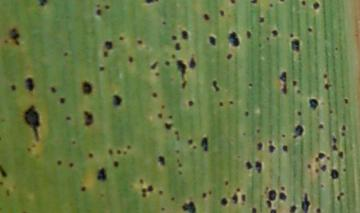tarspot: (24, 105, 40, 142), (177, 59, 187, 80), (10, 28, 21, 46), (279, 70, 287, 94), (228, 32, 240, 47), (182, 201, 197, 213), (302, 193, 311, 213), (82, 110, 93, 126), (82, 79, 92, 95), (293, 125, 304, 139), (290, 39, 301, 52), (97, 168, 108, 181), (25, 78, 35, 92), (309, 98, 319, 111), (201, 137, 209, 152), (330, 168, 340, 179), (113, 95, 122, 107), (212, 80, 221, 92), (208, 35, 217, 46), (268, 190, 277, 201), (189, 57, 196, 70), (164, 121, 173, 131), (180, 30, 189, 40), (278, 192, 288, 201), (105, 40, 113, 51), (255, 161, 262, 173), (158, 156, 166, 166), (318, 150, 326, 160), (245, 29, 252, 40), (245, 161, 253, 170), (312, 2, 320, 11), (1, 165, 7, 177), (271, 29, 279, 37), (220, 198, 228, 206), (50, 86, 57, 95), (151, 61, 158, 70), (173, 130, 180, 139), (174, 42, 181, 51), (258, 15, 265, 24), (268, 144, 275, 153), (38, 1, 48, 7), (9, 84, 17, 91), (145, 1, 159, 5), (203, 13, 210, 21), (331, 144, 339, 151), (289, 205, 296, 213), (147, 184, 154, 192), (112, 160, 120, 167), (267, 200, 273, 209), (5, 188, 11, 197), (233, 193, 238, 203), (157, 112, 164, 119), (95, 8, 102, 15), (171, 34, 178, 41), (317, 123, 324, 130), (223, 179, 230, 186), (59, 96, 65, 104), (136, 39, 144, 45), (226, 53, 232, 61), (325, 83, 331, 91), (240, 194, 246, 202), (321, 164, 327, 172), (257, 142, 262, 151), (141, 188, 146, 197), (56, 159, 62, 166), (68, 162, 75, 168), (63, 50, 69, 57), (188, 100, 194, 107), (152, 92, 158, 99), (98, 66, 105, 72), (103, 51, 109, 58), (104, 4, 111, 10), (164, 60, 171, 66), (128, 56, 134, 63), (118, 35, 125, 41), (170, 53, 177, 59), (244, 110, 250, 117), (219, 10, 225, 17), (282, 145, 288, 152), (332, 137, 338, 144), (201, 192, 207, 199), (257, 42, 263, 49), (80, 186, 87, 192), (182, 81, 187, 89), (344, 97, 349, 105), (336, 194, 341, 202), (307, 162, 312, 170), (108, 148, 113, 156), (88, 153, 94, 159), (96, 2, 102, 8), (218, 101, 224, 107), (241, 131, 247, 137), (265, 35, 271, 41), (250, 1, 259, 5), (307, 27, 313, 33), (288, 32, 294, 38), (339, 190, 345, 196), (316, 207, 322, 213), (319, 183, 325, 189), (280, 185, 286, 191), (161, 20, 168, 25), (339, 151, 344, 158), (314, 156, 319, 163), (229, 1, 237, 5), (3, 39, 9, 44), (71, 140, 77, 145), (155, 72, 161, 77), (188, 138, 193, 144), (191, 144, 197, 149), (177, 162, 183, 167), (228, 100, 234, 105), (256, 128, 261, 134), (292, 80, 297, 86), (295, 89, 301, 94), (323, 73, 328, 79), (328, 110, 334, 115), (281, 133, 286, 139), (341, 124, 346, 130), (251, 207, 256, 213), (208, 189, 213, 195), (178, 170, 183, 176), (170, 196, 176, 201), (326, 155, 331, 161), (342, 167, 348, 172), (126, 144, 131, 150), (27, 147, 32, 152), (248, 82, 253, 87), (269, 3, 274, 8), (301, 1, 306, 6), (297, 111, 302, 116), (334, 46, 339, 51), (341, 132, 346, 137), (139, 179, 144, 184), (65, 116, 71, 120), (175, 150, 181, 154), (158, 190, 164, 194), (270, 209, 276, 213), (117, 149, 121, 155), (1, 179, 4, 186), (169, 115, 174, 119), (161, 105, 166, 109), (268, 140, 273, 144), (236, 188, 241, 192), (161, 207, 166, 211), (315, 168, 319, 173), (123, 151, 127, 155), (265, 187, 270, 190), (279, 1, 286, 3), (176, 159, 180, 162)
